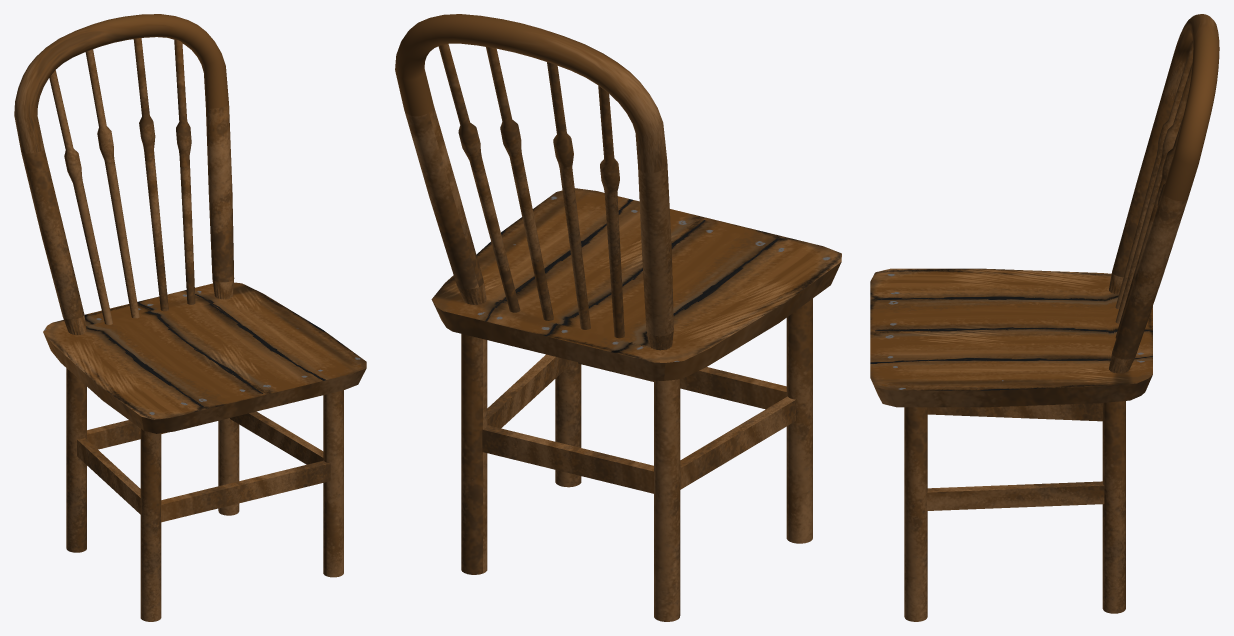
File: chair.fbx
3 renders of one model, left to right at view 1: azimuth 30°, elevation 25°; view 2: azimuth 150°, elevation 25°; view 3: azimuth 270°, elevation 25°, orthographic. The views are drawn at different scales.
Parts seen in each view (by area): view 1: pCylinder5; view 2: pCylinder5; view 3: pCylinder5.
Boxes of the visible parts, x1,y1,x2,y2 form: pCylinder5: [14, 14, 366, 621]; pCylinder5: [395, 14, 841, 621]; pCylinder5: [870, 14, 1219, 621].
Bounding box in the file's own units: 1.5 × 3.05 × 1.82.
1 material, 1 textured.
